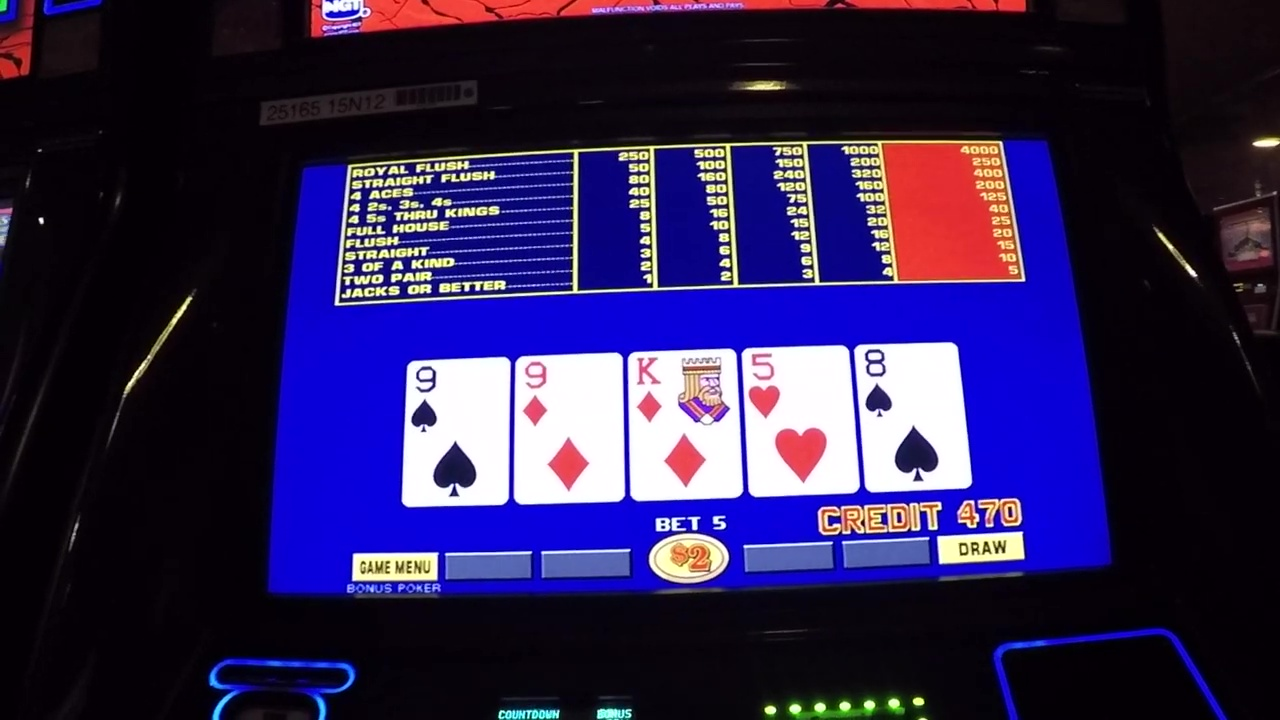D9: (519, 358, 618, 433)
DK: (630, 351, 738, 428)
H5: (747, 350, 849, 424)
S8: (862, 346, 955, 422)
S9: (412, 362, 506, 435)
